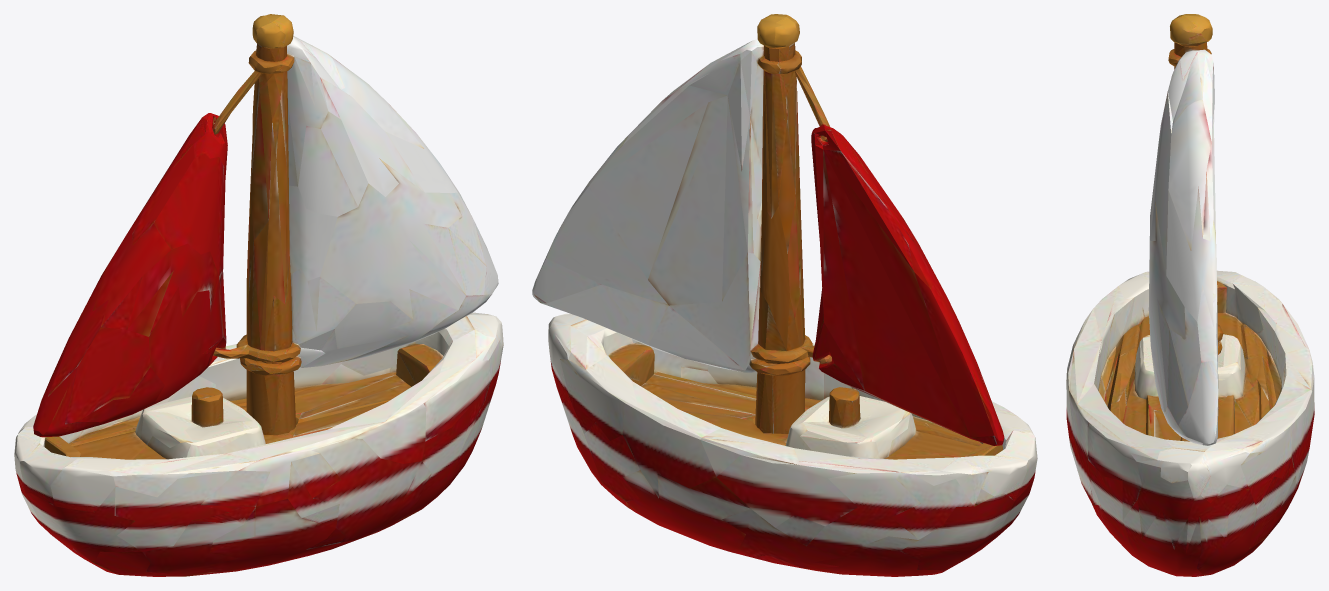
File: strand-sejlbaad.glb
3 views of the same model, side by side, from view 1: azimuth 30°, elevation 25°; view 2: azimuth 150°, elevation 25°; view 3: azimuth 270°, elevation 25° (orthographic). The views are drawn at different scales.
Size of the model in its own units: 1.89 by 1.9 by 0.8663.
1 material, 1 textured.
